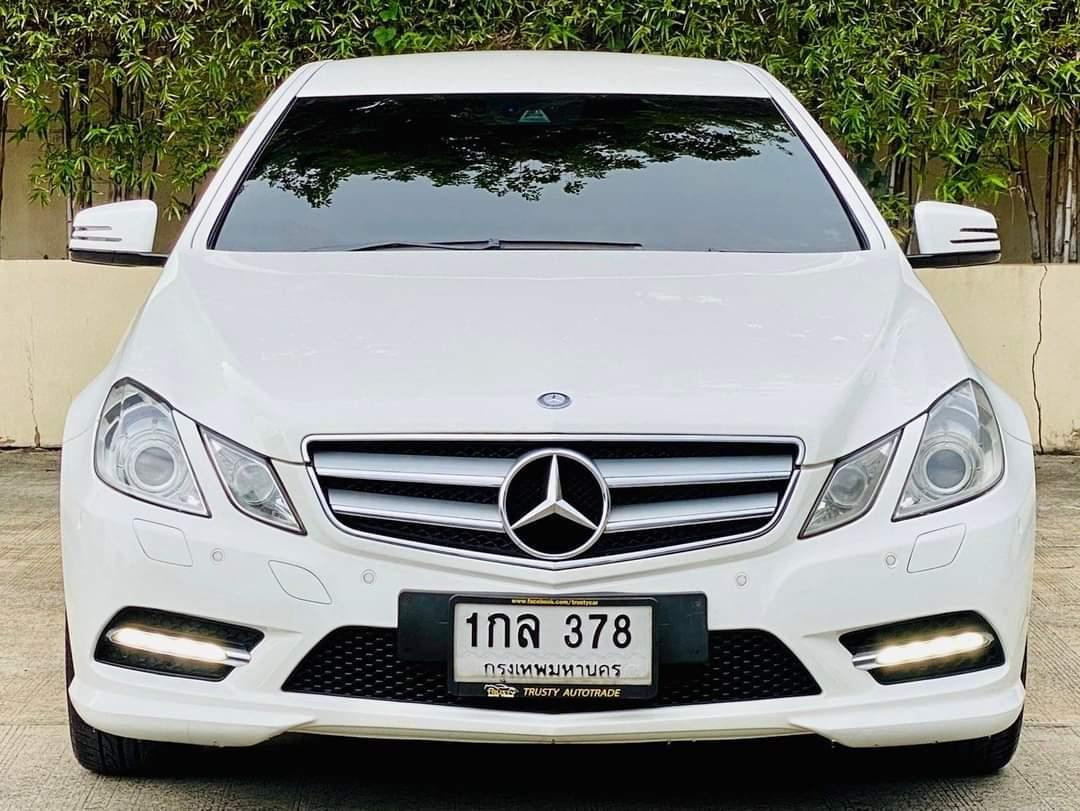license-plate: (444, 590, 666, 701)
